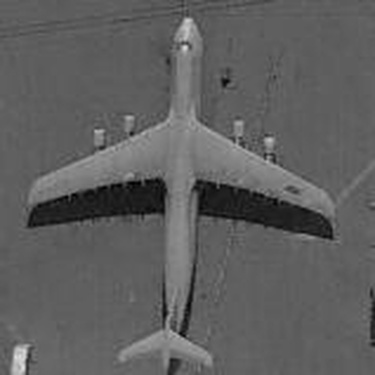airplane: (9, 2, 351, 368)
